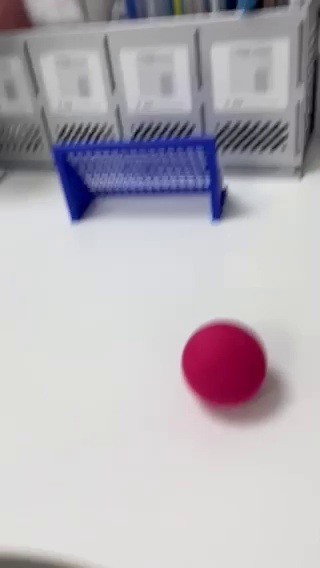goal: (44, 109, 226, 224)
redball: (175, 317, 272, 413)
